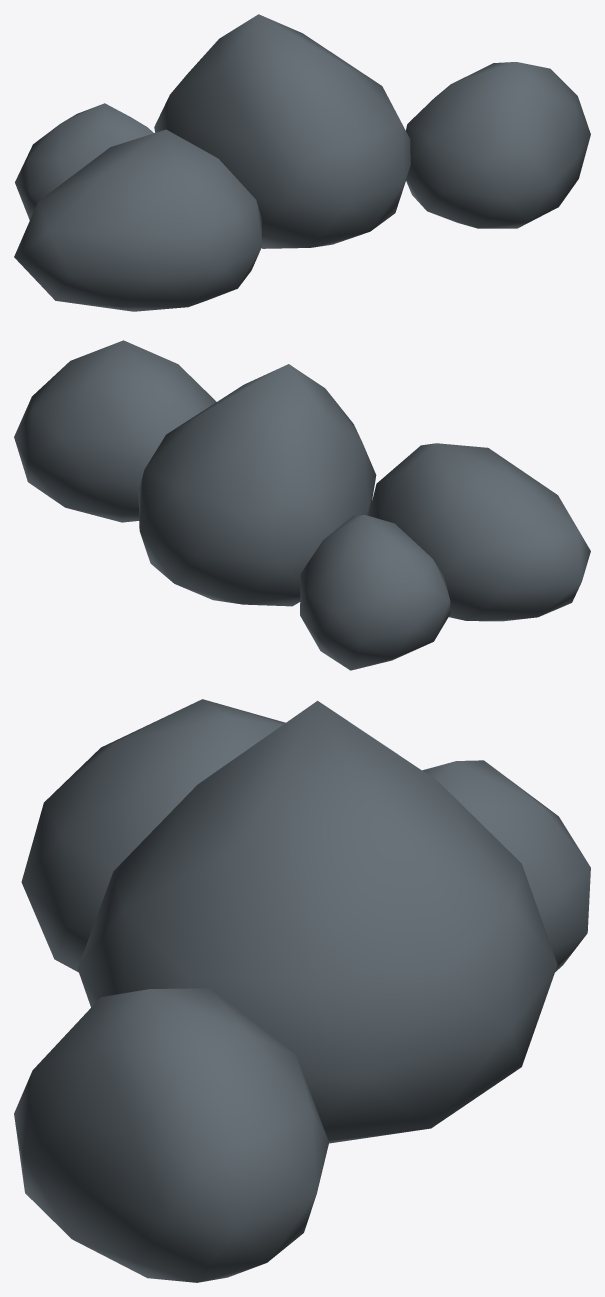
The model's file is Stone_04.fbx.
3 views of the same model, one above another, from view 1: azimuth 30°, elevation 25°; view 2: azimuth 150°, elevation 25°; view 3: azimuth 270°, elevation 25° (orthographic). The views are drawn at different scales.
Visible parts, largest first — view 1: Stone_04; view 2: Stone_04; view 3: Stone_04.
Boxes of the visible parts, left/top/right/bottom form: Stone_04: left=14, top=14, right=590, bottom=311; Stone_04: left=14, top=340, right=590, bottom=670; Stone_04: left=14, top=699, right=590, bottom=1282.
Bounding box in the file's own units: 265 × 137 × 99.22.
